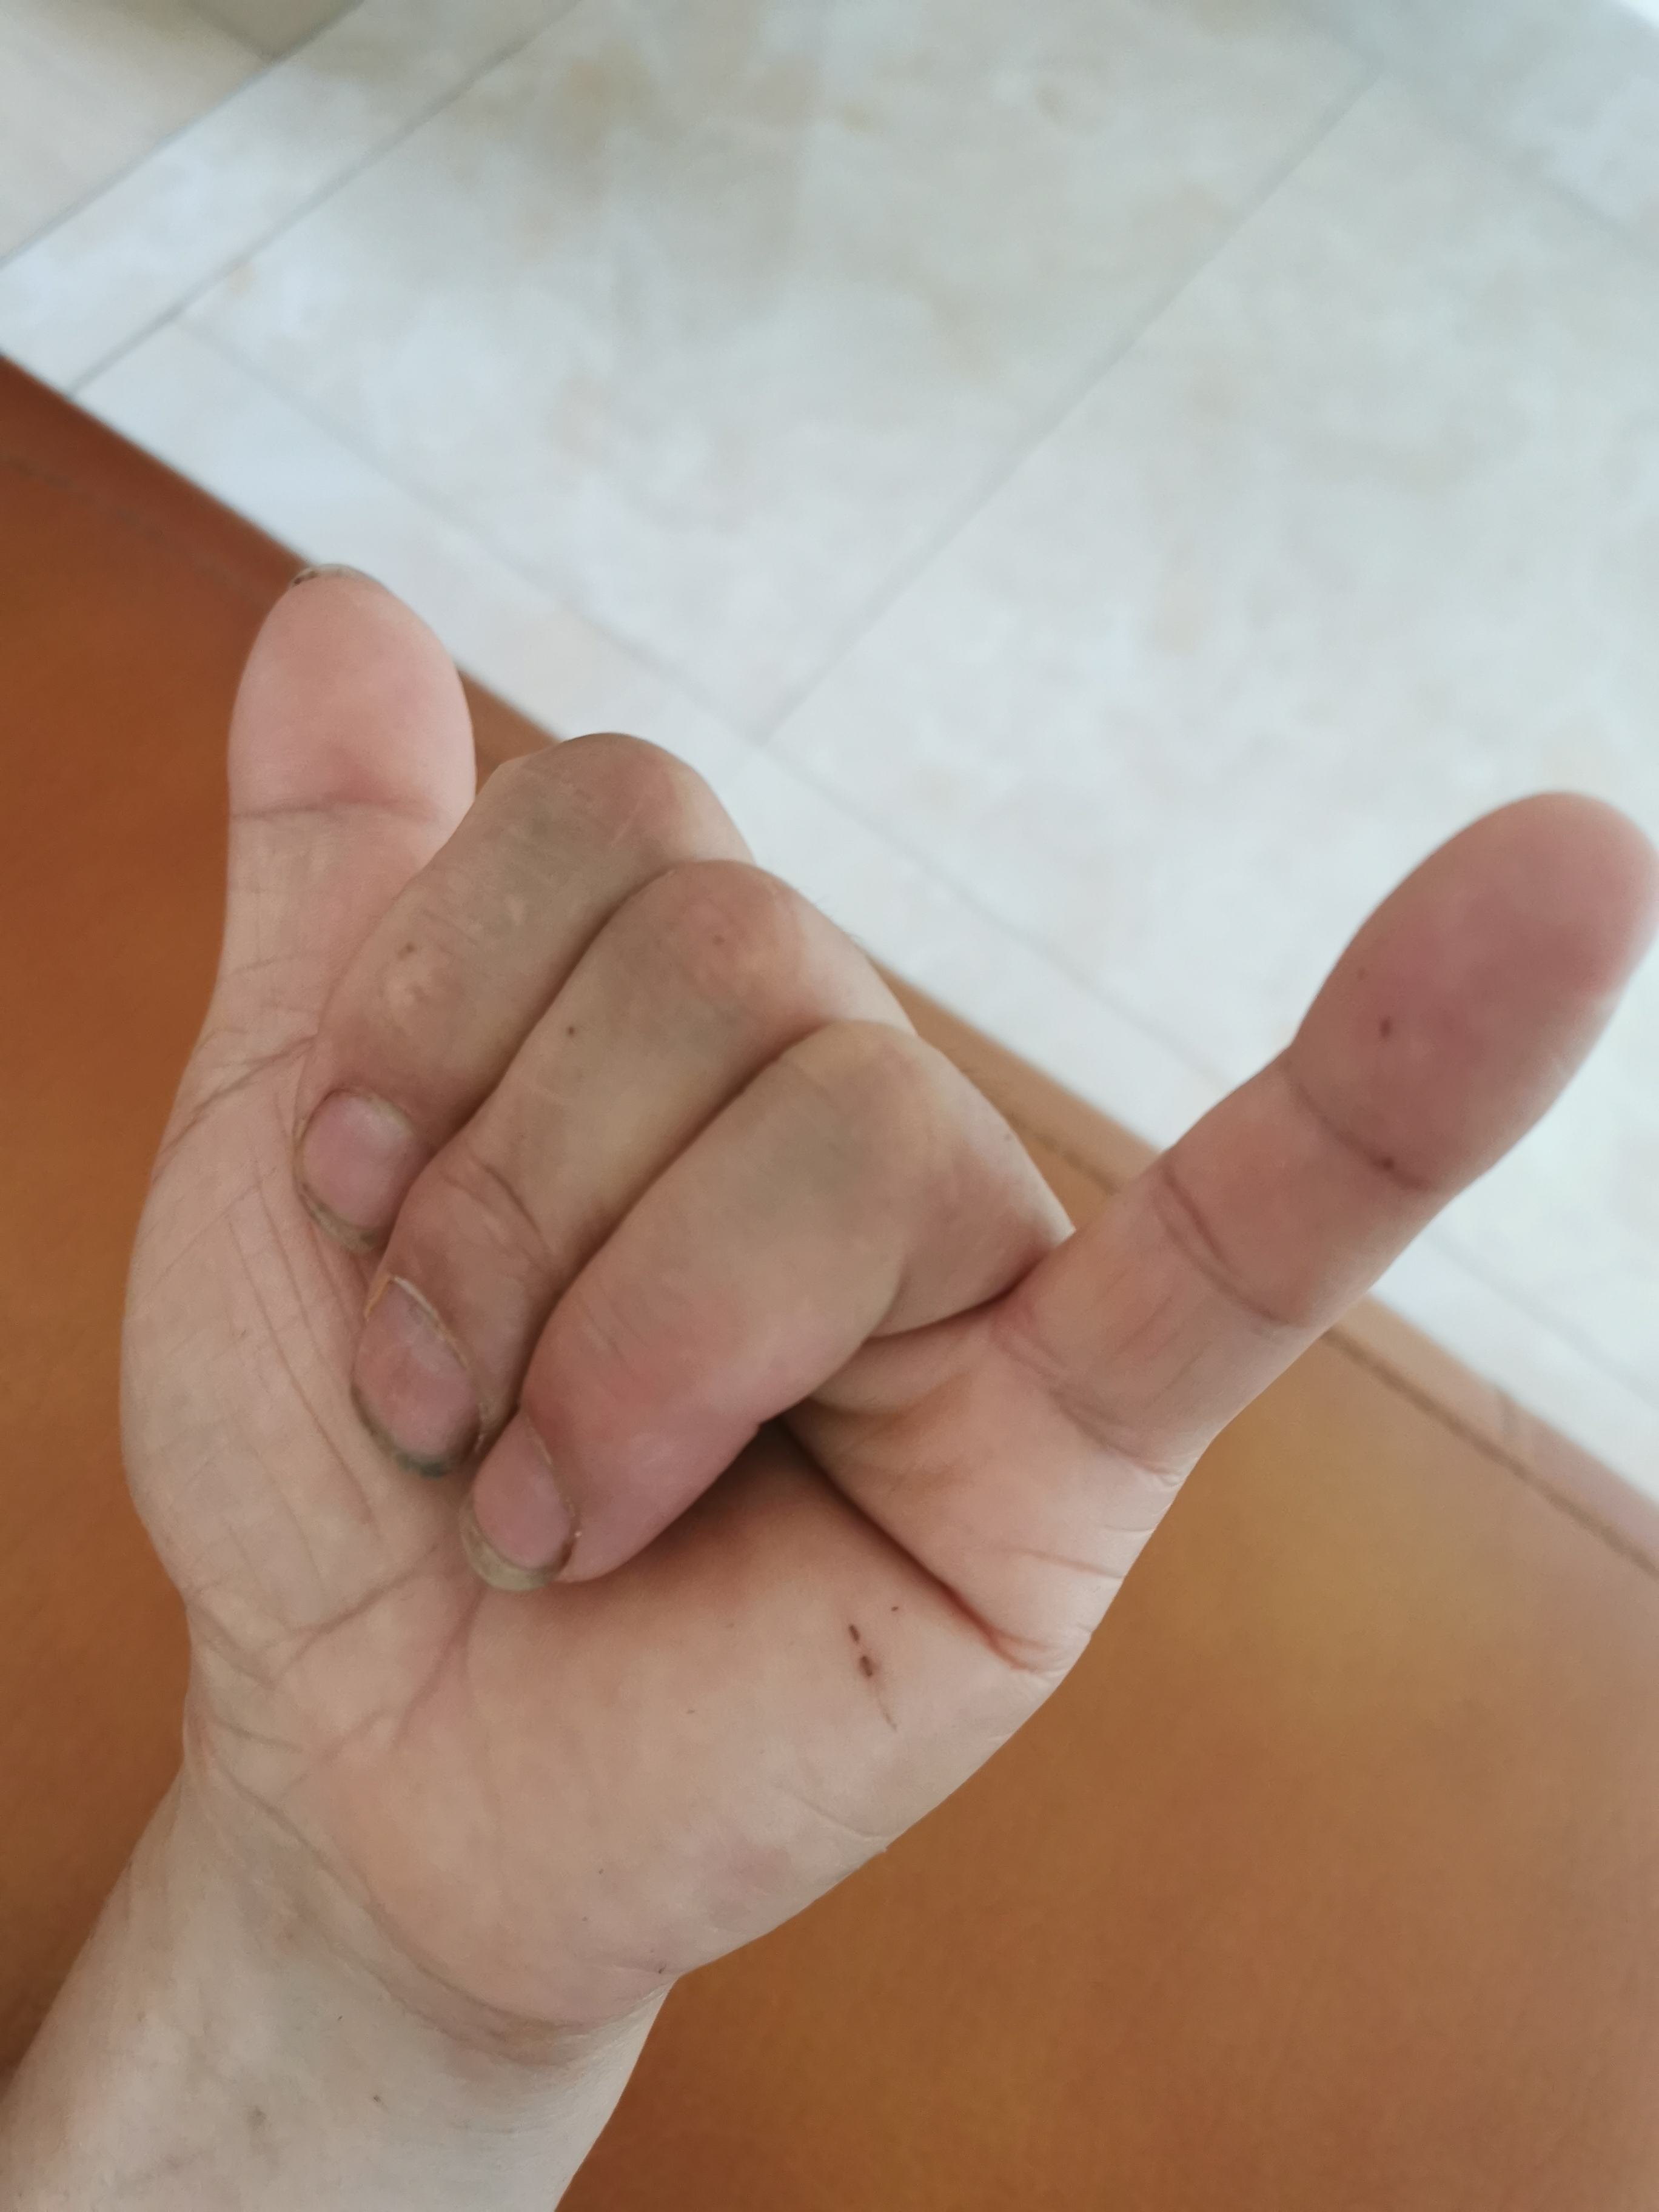clockwise: (106, 564, 1659, 1818)
